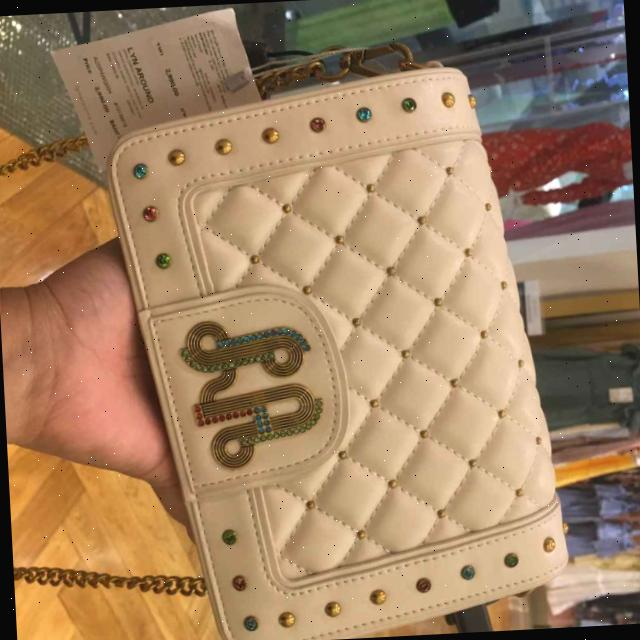Handbag: (0, 38, 575, 640)
